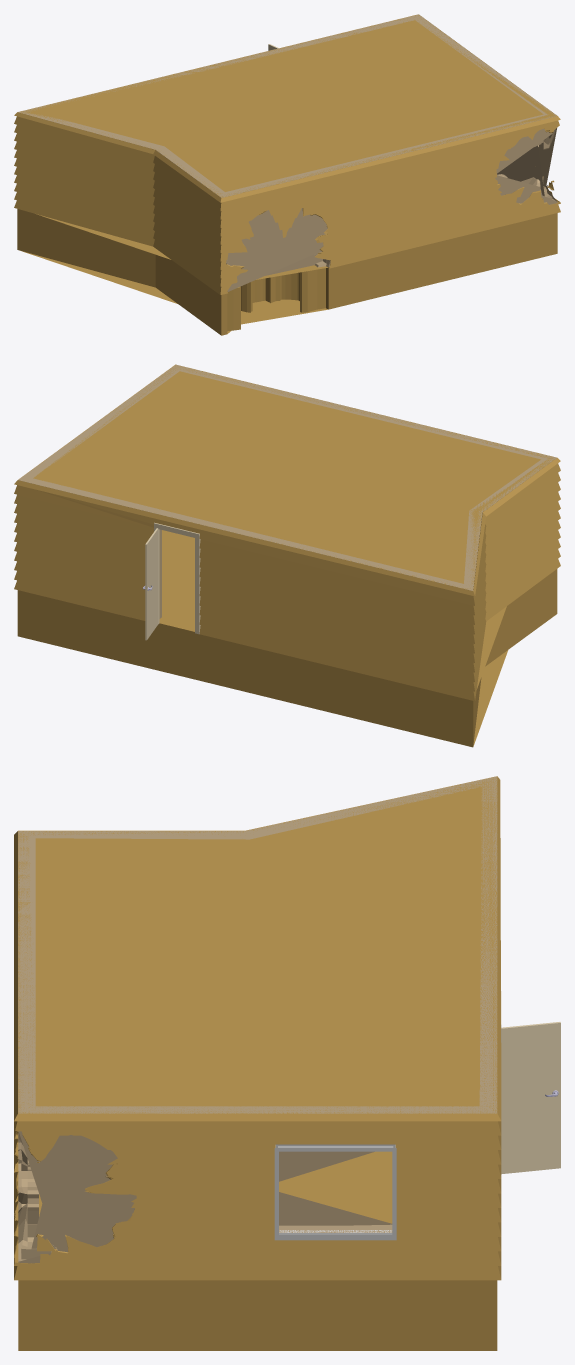
The model's file is House_Rukmaksii_5_final.fbx.
The picture shows the model from 3 angles, top to bottom: view 1: azimuth 30°, elevation 25°; view 2: azimuth 150°, elevation 25°; view 3: azimuth 270°, elevation 25°; orthographic projection. The views are drawn at different scales.
Visible parts, largest first — view 1: Ceiling, Wall_cover, Floor, Room; view 2: Ceiling, Wall_cover, Floor, Room, Door, DoorFrame; view 3: Ceiling, Wall_cover, Floor, Room, Door, WindowFrame.
Part boxes in pixels (bbox=[...]): Ceiling: bbox=[20, 15, 556, 197]; Wall_cover: bbox=[14, 17, 560, 294]; Floor: bbox=[17, 209, 557, 335]; Room: bbox=[18, 14, 557, 291]; Ceiling: bbox=[30, 365, 554, 590]; Wall_cover: bbox=[14, 364, 560, 701]; Floor: bbox=[17, 530, 557, 747]; Room: bbox=[18, 364, 556, 618]; Door: bbox=[145, 528, 159, 640]; DoorFrame: bbox=[154, 522, 200, 634]; Ceiling: bbox=[18, 777, 497, 1113]; Wall_cover: bbox=[14, 776, 501, 1280]; Floor: bbox=[18, 1151, 497, 1350]; Room: bbox=[18, 776, 497, 1263]; Door: bbox=[501, 1022, 560, 1174]; WindowFrame: bbox=[274, 1144, 396, 1240].
Bounding box in the file's own units: 1024 × 328 × 685.
